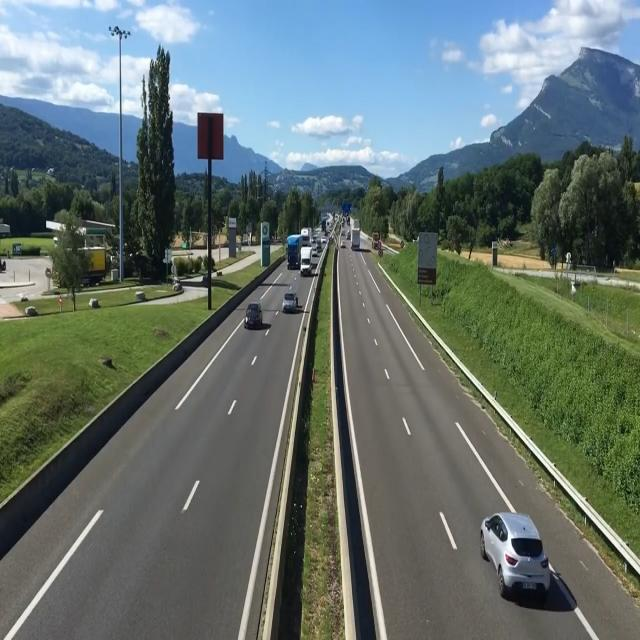car: (481, 518, 563, 615), (243, 298, 269, 335), (282, 282, 300, 314), (301, 246, 313, 278)
truck: (285, 232, 300, 272), (350, 227, 362, 251), (372, 230, 381, 248)
